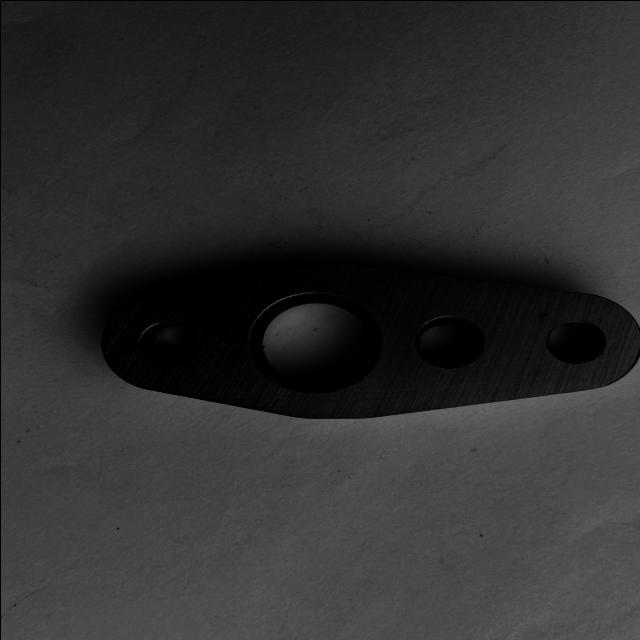chap: (338, 292, 346, 296)
lines: (532, 308, 548, 318)
